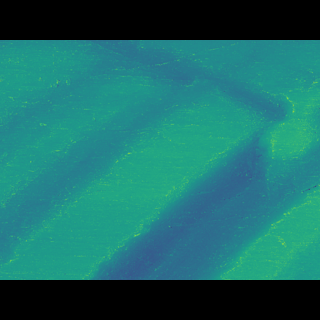Loch: (76, 102, 319, 250), (0, 126, 142, 240)
